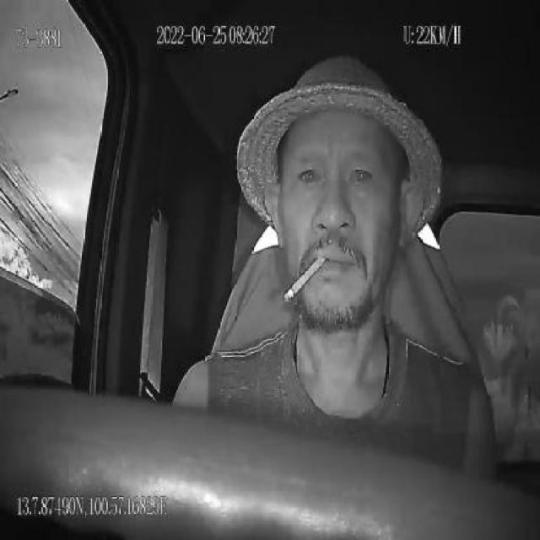smoking: (283, 252, 326, 305)
